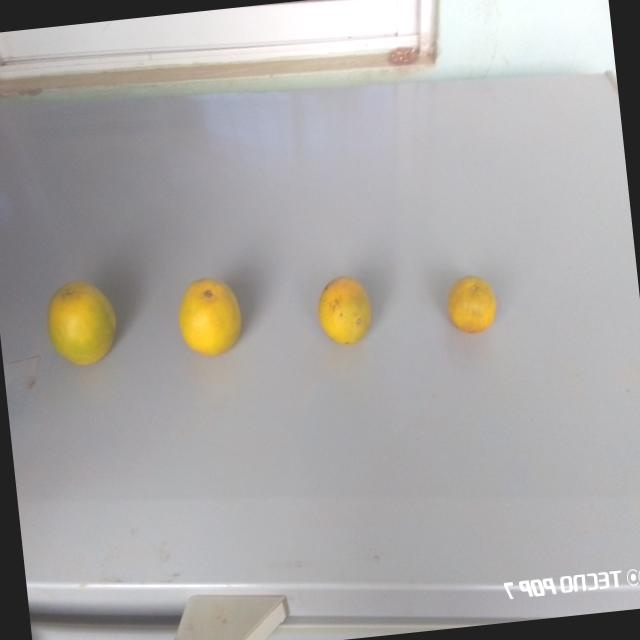agrume: (36, 275, 120, 373), (172, 269, 249, 363), (312, 268, 377, 353), (440, 265, 500, 341)
